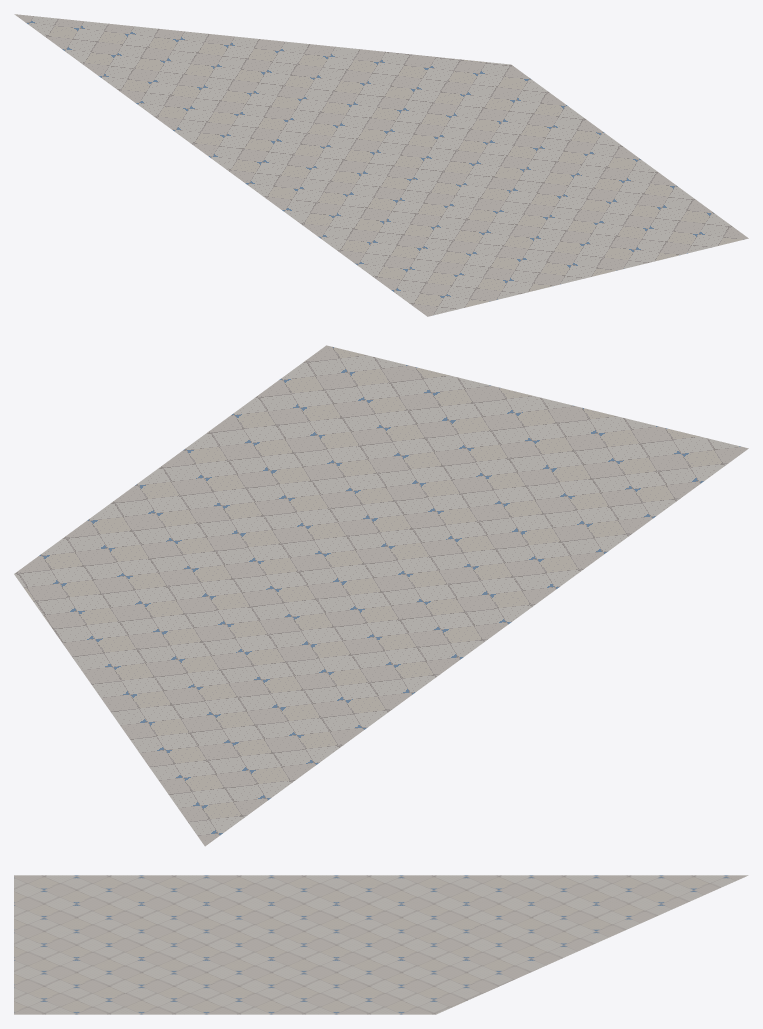
The model's file is kd_stage_136282_5_56.glb.
The picture shows the model from 3 angles, top to bottom: view 1: azimuth 30°, elevation 25°; view 2: azimuth 150°, elevation 25°; view 3: azimuth 270°, elevation 25°; orthographic projection. The views are drawn at different scales.
Parts seen in each view (by area): view 1: kd_stage_136282_5_56; view 2: kd_stage_136282_5_56; view 3: kd_stage_136282_5_56.
Boxes of the visible parts, bbox=[...] form: kd_stage_136282_5_56: bbox=[14, 14, 748, 316]; kd_stage_136282_5_56: bbox=[14, 345, 748, 846]; kd_stage_136282_5_56: bbox=[14, 875, 748, 1014].
Bounding box in the file's own units: 5.75 × 5.96e-07 × 12.83.
Materials: 1 (1 with a texture image).
